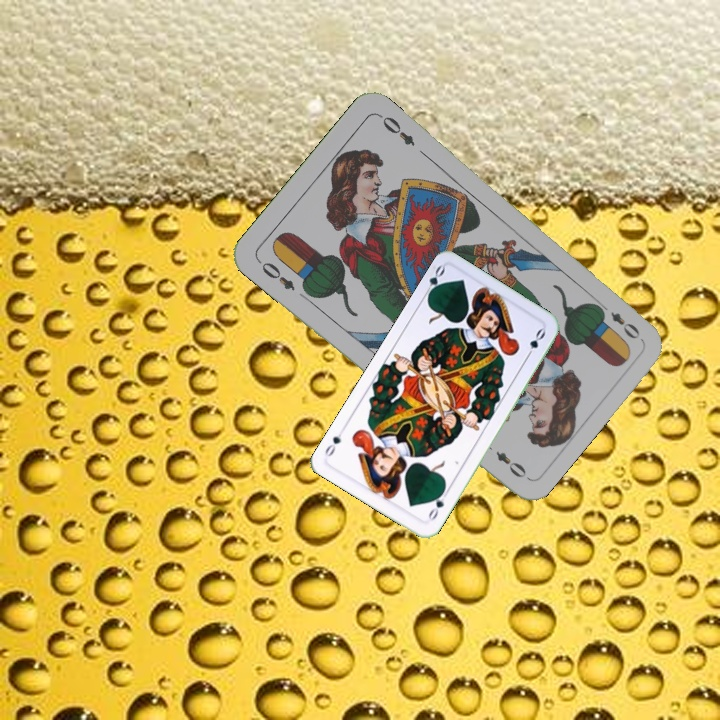EO: (594, 298, 643, 342), (253, 256, 298, 293)
GO: (419, 261, 448, 301), (423, 486, 451, 523)
